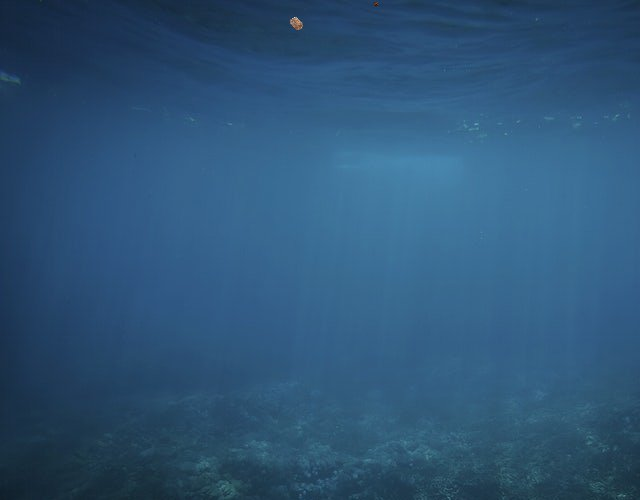Pellet: (282, 10, 310, 38)
